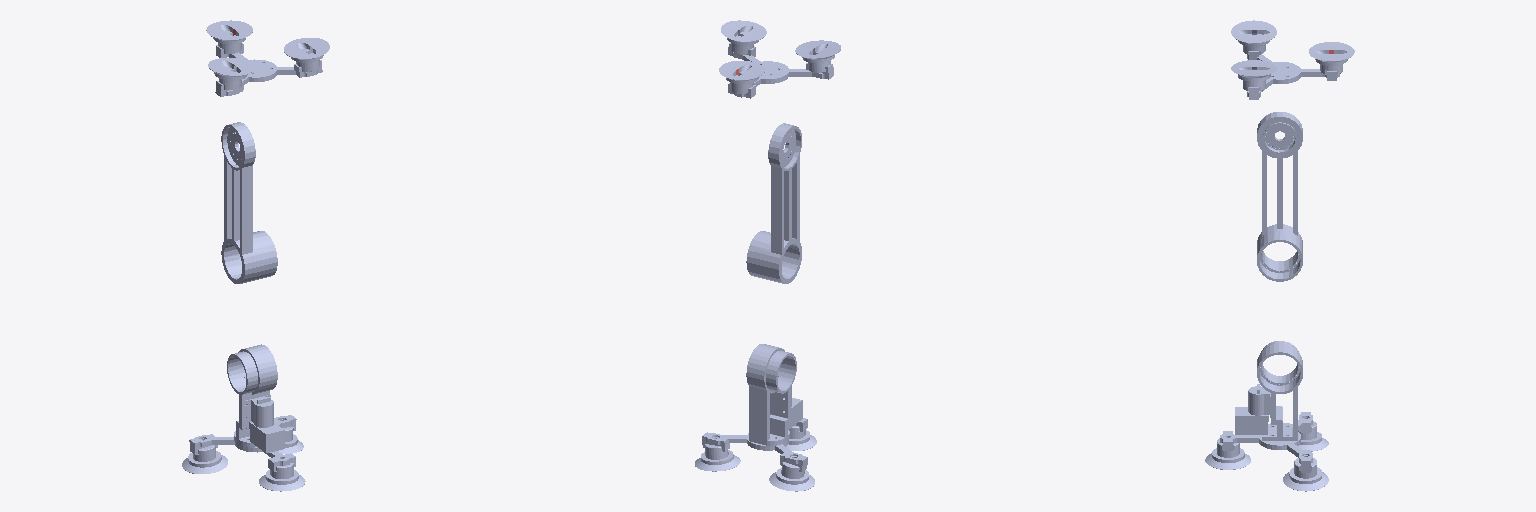
The robot description file, URDF, robot "bigmama0327":
<?xml version="1.0" encoding="utf-8"?>
<!-- This URDF was automatically created by SolidWorks to URDF Exporter! Originally created by [author] ([email redacted]) 
     Commit Version: 1.6.0-1-g15f4949  Build Version: 1.6.7594.29634
     For more information, please see http://wiki.ros.org/sw_urdf_exporter -->
<robot
  name="bigmama0327">
  <link
    name="Link_0">
    <inertial>
      <origin
        xyz="-0.0037319 -0.0091592 0.031698"
        rpy="0 0 0" />
      <mass
        value="0.78242" />
      <inertia
        ixx="0.0014922"
        ixy="-1.2947E-05"
        ixz="1.4235E-05"
        iyy="0.0014415"
        iyz="-7.3423E-06"
        izz="0.0010232" />
    </inertial>
    <visual>
      <origin
        xyz="0 0 0"
        rpy="0 0 0" />
      <geometry>
        <mesh
          filename="package://bigmama0327/meshes/Link_0.STL" />
      </geometry>
      <material
        name="">
        <color
          rgba="0.79216 0.81961 0.93333 1" />
      </material>
    </visual>
    <collision>
      <origin
        xyz="0 0 0"
        rpy="0 0 0" />
      <geometry>
        <mesh
          filename="package://bigmama0327/meshes/Link_0.STL" />
      </geometry>
    </collision>
  </link>
  <link
    name="Link_1">
    <inertial>
      <origin
        xyz="3.3307E-16 0.12 0.014813"
        rpy="0 0 0" />
      <mass
        value="0.28238" />
      <inertia
        ixx="0.0027445"
        ixy="2.8231E-20"
        ixz="-6.886E-21"
        iyy="0.00019508"
        iyz="1.056E-20"
        izz="0.0029159" />
    </inertial>
    <visual>
      <origin
        xyz="0 0 0"
        rpy="0 0 0" />
      <geometry>
        <mesh
          filename="package://bigmama0327/meshes/Link_1.STL" />
      </geometry>
      <material
        name="">
        <color
          rgba="0.79216 0.81961 0.93333 1" />
      </material>
    </visual>
    <collision>
      <origin
        xyz="0 0 0"
        rpy="0 0 0" />
      <geometry>
        <mesh
          filename="package://bigmama0327/meshes/Link_1.STL" />
      </geometry>
    </collision>
  </link>
  <joint
    name="Joint_1"
    type="revolute">
    <origin
      xyz="0.022 0 0.155"
      rpy="1.5708 0 1.5708" />
    <parent
      link="Link_0" />
    <child
      link="Link_1" />
    <axis
      xyz="0 0 -1" />
    <limit
      lower="-3.14"
      upper="3.14"
      effort="100"
      velocity="0.25" />
  </joint>
  <link
    name="Link_2">
    <inertial>
      <origin
        xyz="5.5511E-15 0.098184 -0.051898"
        rpy="0 0 0" />
      <mass
        value="0.34516" />
      <inertia
        ixx="0.0036332"
        ixy="3.2563E-18"
        ixz="-4.5099E-19"
        iyy="0.00034405"
        iyz="0.00024115"
        izz="0.0037914" />
    </inertial>
    <visual>
      <origin
        xyz="0 0 0"
        rpy="0 0 0" />
      <geometry>
        <mesh
          filename="package://bigmama0327/meshes/Link_2.STL" />
      </geometry>
      <material
        name="">
        <color
          rgba="0.79216 0.81961 0.93333 1" />
      </material>
    </visual>
    <collision>
      <origin
        xyz="0 0 0"
        rpy="0 0 0" />
      <geometry>
        <mesh
          filename="package://bigmama0327/meshes/Link_2.STL" />
      </geometry>
    </collision>
  </link>
  <joint
    name="Joint_2"
    type="revolute">
    <origin
      xyz="0 0.24 0"
      rpy="0 0 0" />
    <parent
      link="Link_1" />
    <child
      link="Link_2" />
    <axis
      xyz="0 0 -1" />
    <limit
      lower="-3.14"
      upper="3.14"
      effort="100"
      velocity="0.25" />
  </joint>
  <link
    name="Link_3">
    <inertial>
      <origin
        xyz="0.018256 0.077688 0.029219"
        rpy="0 0 0" />
      <mass
        value="0.40524" />
      <inertia
        ixx="0.0010067"
        ixy="-1.0212E-05"
        ixz="-1.2958E-05"
        iyy="0.00027741"
        iyz="1.4235E-05"
        izz="0.0011025" />
    </inertial>
    <visual>
      <origin
        xyz="0 0 0"
        rpy="0 0 0" />
      <geometry>
        <mesh
          filename="package://bigmama0327/meshes/Link_3.STL" />
      </geometry>
      <material
        name="">
        <color
          rgba="0.79216 0.81961 0.93333 1" />
      </material>
    </visual>
    <collision>
      <origin
        xyz="0 0 0"
        rpy="0 0 0" />
      <geometry>
        <mesh
          filename="package://bigmama0327/meshes/Link_3.STL" />
      </geometry>
    </collision>
  </link>
  <joint
    name="Joint_3"
    type="revolute">
    <origin
      xyz="0 0.24 -0.0442"
      rpy="0 0 0" />
    <parent
      link="Link_2" />
    <child
      link="Link_3" />
    <axis
      xyz="0 0 1" />
    <limit
      lower="-3.14"
      upper="3.14"
      effort="100"
      velocity="0.25" />
  </joint>
  <link
    name="Link_4">
    <inertial>
      <origin
        xyz="-0.00061441 -1.6487E-05 -0.027345"
        rpy="0 0 0" />
      <mass
        value="0.3771" />
      <inertia
        ixx="0.00043443"
        ixy="1.2912E-08"
        ixz="-2.8556E-06"
        iyy="0.00038934"
        iyz="7.1239E-09"
        izz="0.00074573" />
    </inertial>
    <visual>
      <origin
        xyz="0 0 0"
        rpy="0 0 0" />
      <geometry>
        <mesh
          filename="package://bigmama0327/meshes/Link_4.STL" />
      </geometry>
      <material
        name="">
        <color
          rgba="0.79216 0.81961 0.93333 1" />
      </material>
    </visual>
    <collision>
      <origin
        xyz="0 0 0"
        rpy="0 0 0" />
      <geometry>
        <mesh
          filename="package://bigmama0327/meshes/Link_4.STL" />
      </geometry>
    </collision>
  </link>
  <joint
    name="Joint_4"
    type="revolute">
    <origin
      xyz="0 0.145 0.022"
      rpy="1.5708 0 0" />
    <parent
      link="Link_3" />
    <child
      link="Link_4" />
    <axis
      xyz="0 0 -1" />
    <limit
      lower="-0.0001"
      upper="0.0001"
      effort="0.0001"
      velocity="0.0001" />
  </joint>
  <link
    name="Link_innerfinger">
    <inertial>
      <origin
        xyz="-0.0024188 -4.6629E-15 -0.0074919"
        rpy="0 0 0" />
      <mass
        value="0.00082422" />
      <inertia
        ixx="2.7022E-08"
        ixy="1.6901E-24"
        ixz="2.4088E-09"
        iyy="2.2272E-08"
        iyz="-7.8484E-24"
        izz="8.8267E-09" />
    </inertial>
    <visual>
      <origin
        xyz="0 0 0"
        rpy="0 0 0" />
      <geometry>
        <mesh
          filename="package://bigmama0327/meshes/Link_innerfinger.STL" />
      </geometry>
      <material
        name="">
        <color
          rgba="1 0.50196 0.50196 1" />
      </material>
    </visual>
    <collision>
      <origin
        xyz="0 0 0"
        rpy="0 0 0" />
      <geometry>
        <mesh
          filename="package://bigmama0327/meshes/Link_innerfinger.STL" />
      </geometry>
    </collision>
  </link>
  <joint
    name="Joint_innerfinger"
    type="prismatic">
    <origin
      xyz="0.1 -0.01 -0.03"
      rpy="0 0 1.5708" />
    <parent
      link="Link_4" />
    <child
      link="Link_innerfinger" />
    <axis
      xyz="-1 0 0" />
    <limit
      lower="-0.01"
      upper="0.01"
      effort="50"
      velocity="0.001" />
  </joint>
  <link
    name="Link_exterfinger">
    <inertial>
      <origin
        xyz="-0.0024188 1.1102E-16 -0.0074919"
        rpy="0 0 0" />
      <mass
        value="0.00082422" />
      <inertia
        ixx="2.7022E-08"
        ixy="1.2733E-23"
        ixz="2.4088E-09"
        iyy="2.2272E-08"
        iyz="4.1385E-23"
        izz="8.8267E-09" />
    </inertial>
    <visual>
      <origin
        xyz="0 0 0"
        rpy="0 0 0" />
      <geometry>
        <mesh
          filename="package://bigmama0327/meshes/Link_exterfinger.STL" />
      </geometry>
      <material
        name="">
        <color
          rgba="1 0.50196 0.50196 1" />
      </material>
    </visual>
    <collision>
      <origin
        xyz="0 0 0"
        rpy="0 0 0" />
      <geometry>
        <mesh
          filename="package://bigmama0327/meshes/Link_exterfinger.STL" />
      </geometry>
    </collision>
  </link>
  <joint
    name="Joint_exterfinger"
    type="prismatic">
    <origin
      xyz="0.1 0.01 -0.03"
      rpy="0 0 -1.5708" />
    <parent
      link="Link_4" />
    <child
      link="Link_exterfinger" />
    <axis
      xyz="1 0 0" />
    <limit
      lower="-0.01"
      upper="0.01"
      effort="50"
      velocity="0.001" />
  </joint>
</robot>

--- Facts derived from the render (not from the file) ---
3 views of the same robot in one strip: view 1: azimuth 30°, elevation 25°; view 2: azimuth 150°, elevation 25°; view 3: azimuth 270°, elevation 25° (orthographic).
Model bigmama0327 with 7 links and 6 joints (4 revolute, 2 prismatic), rooted at Link_0, posed all joints at 0.
Links seen in each view (by area): view 1: Link_0, Link_2, Link_4; view 2: Link_0, Link_2, Link_4; view 3: Link_0, Link_2, Link_4.
Link boxes in pixels (x1=…): Link_0: x1=182, y1=344, x2=305, y2=491; Link_2: x1=221, y1=122, x2=277, y2=283; Link_4: x1=206, y1=20, x2=329, y2=96; Link_0: x1=695, y1=344, x2=816, y2=491; Link_2: x1=746, y1=123, x2=801, y2=283; Link_4: x1=719, y1=20, x2=840, y2=98; Link_0: x1=1205, y1=341, x2=1328, y2=491; Link_2: x1=1257, y1=112, x2=1302, y2=281; Link_4: x1=1231, y1=20, x2=1354, y2=99.
Size in the robot's own frame: 0.2553 by 0.289 by 0.8854 metres.
5 mesh visuals loaded from 7 distinct referenced files (5 binary STL); not drawn: 2 (reference not matched to a file when rendering).
